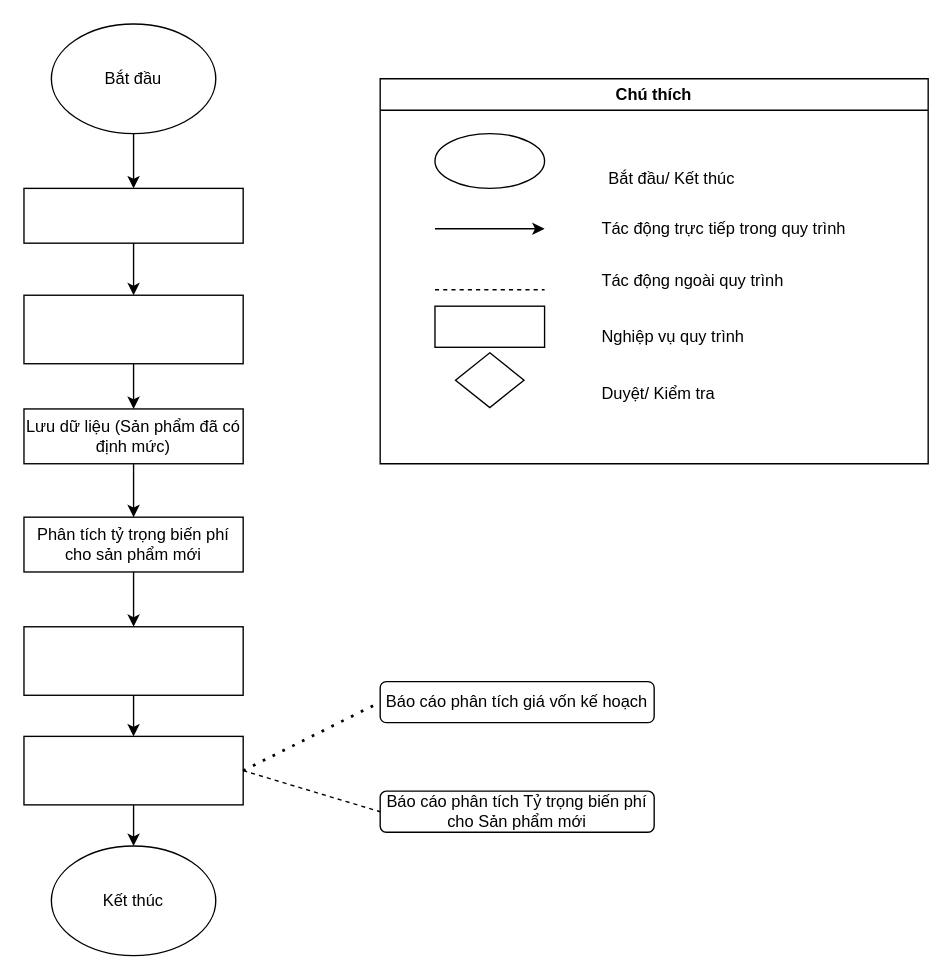
Image size: 952x980. Some labels were removed from this diagram. The centre of each missing label's shape, as x and y in pixels:
Kiểm tra lại dữ liệu tính Giá vốn kế hoạch: the point at 133,770
Tính và Lưu dữ liệu (Sản phẩm mới- Sản phẩm chưa có định mức ): the point at 133,660
Xác định chi phí Giá vốn theo yếu tố Biến phí, Định phí: the point at 133,329
Xác định sản lượng kế hoạch: the point at 133,215
